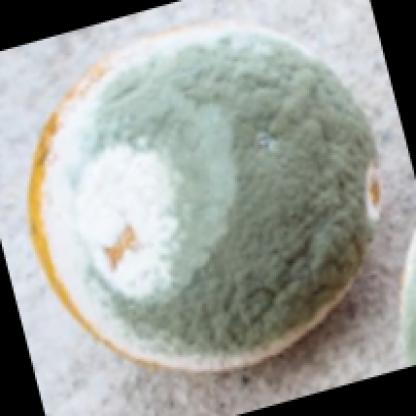rotten: (30, 24, 376, 371)
